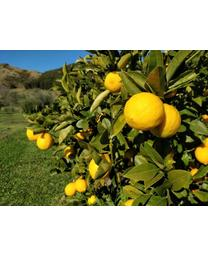lemon: (124, 94, 165, 129), (151, 105, 182, 138), (103, 73, 124, 91), (34, 134, 51, 148), (63, 182, 77, 195)
